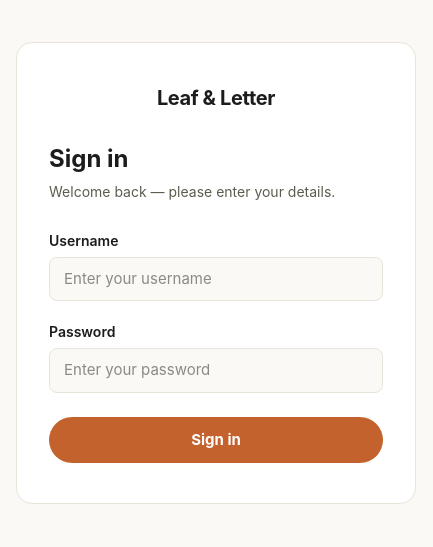
Login page › shows a validation error for username when fields are empty
The image size is (433, 547).
What coordinates should you click on to do the following:
click the button "Sign in"
I would click on:
 (216, 440)
Its box is [49,417,383,463].
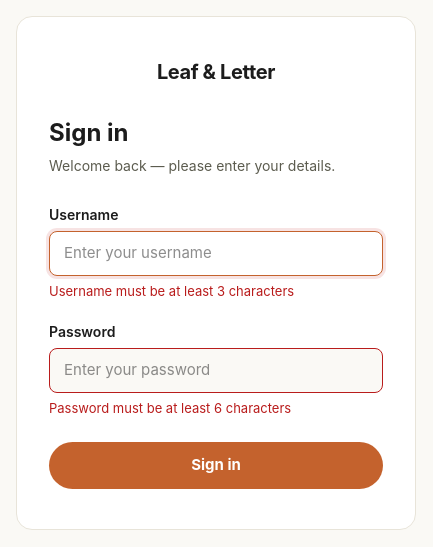
Now the text "Username must be at least 3 characters" is shown, box [49,283,294,299]
